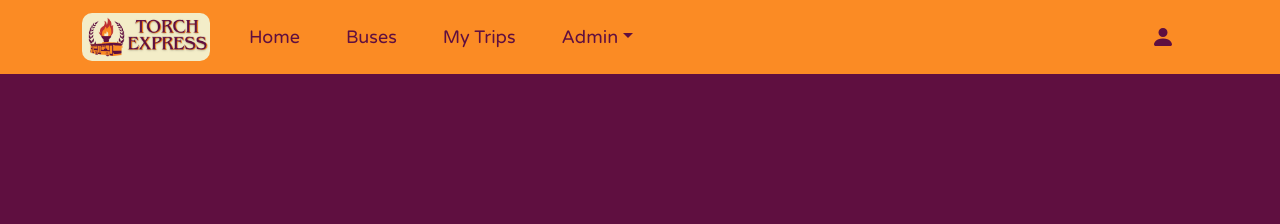
Admin Dropdown in NavigationBar Component › displays admin dropdown when user is an admin
Note: Open the admin dropdown
Click the button "Admin".
click(597, 37)  # box [554,16,641,58]
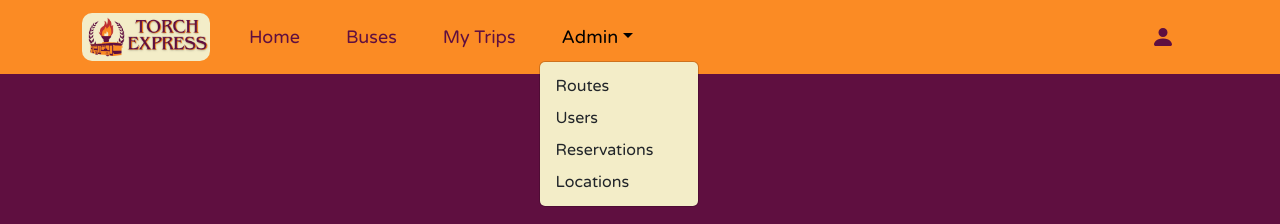
Now the link "Routes" is shown, box [556,76,609,96]
Now the link "Users" is shown, box [556,108,598,128]
Now the link "Reservations" is shown, box [556,140,653,160]
